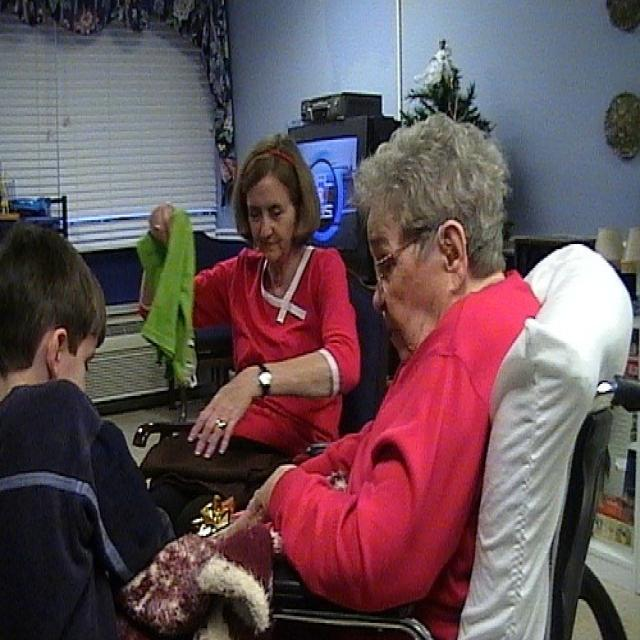person: (232, 108, 543, 636), (133, 140, 362, 534), (6, 218, 176, 639)
tvmonitor: (279, 119, 376, 260)
